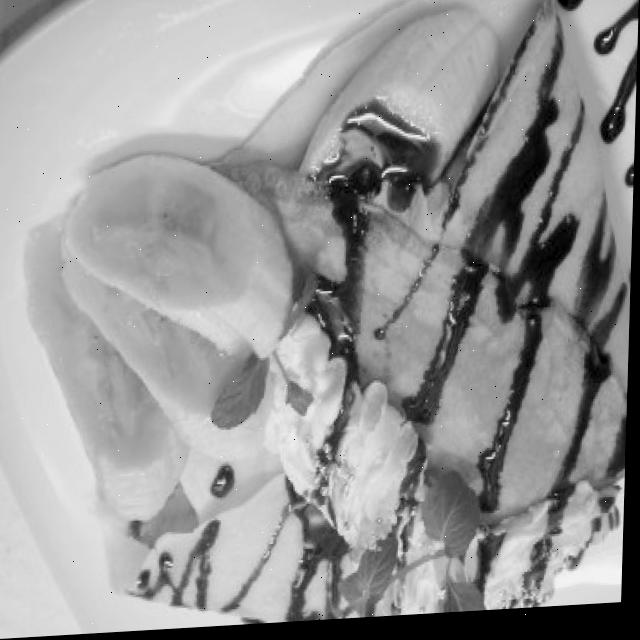蔬菜料理: (29, 0, 635, 638)
